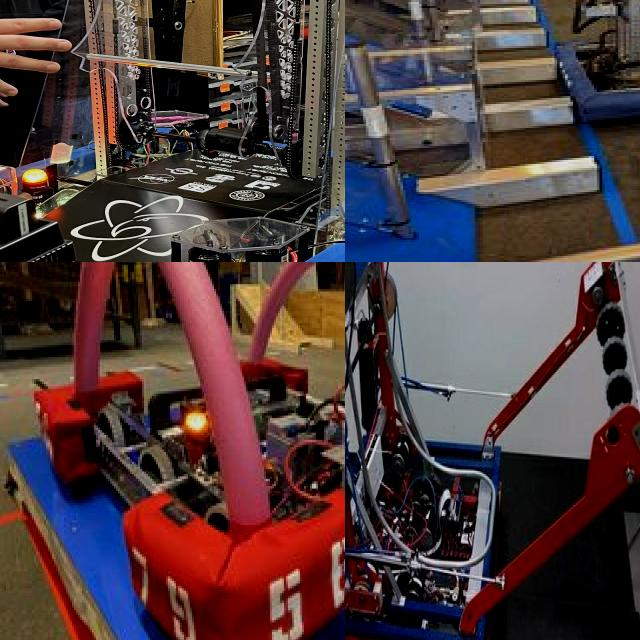FRC-Robots: (0, 262, 345, 640), (0, 0, 345, 262), (345, 262, 564, 640), (416, 0, 640, 130)
